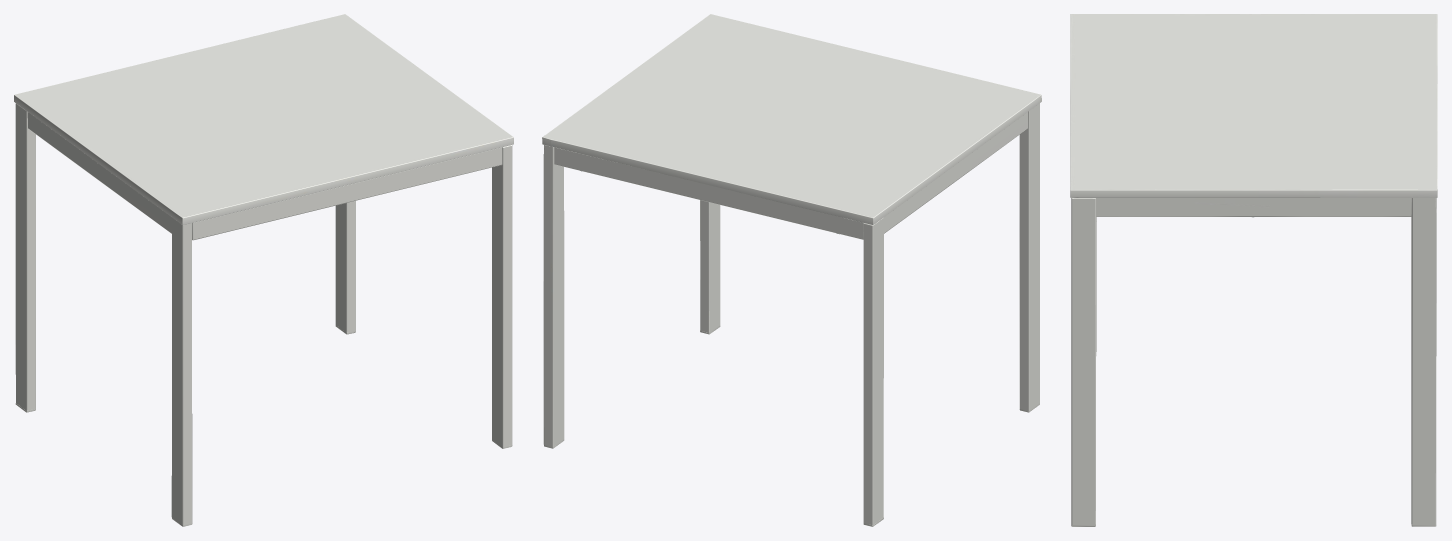
File: vihals_sto_rozkadany_90569097.glb
3 renders of one model, left to right at view 1: azimuth 30°, elevation 25°; view 2: azimuth 150°, elevation 25°; view 3: azimuth 270°, elevation 25°, orthographic. The views are drawn at different scales.
Parts seen in each view (by area): view 1: vihals_sto_rozkadany_90569097; view 2: vihals_sto_rozkadany_90569097; view 3: vihals_sto_rozkadany_90569097.
Part boxes in pixels (<box>): vihals_sto_rozkadany_90569097: <box>14,14,513,526</box>; vihals_sto_rozkadany_90569097: <box>542,14,1041,526</box>; vihals_sto_rozkadany_90569097: <box>1070,14,1437,526</box>.
Bounding box in the file's own units: 0.84 × 0.7504 × 0.7403.
3 materials, 3 textured.
